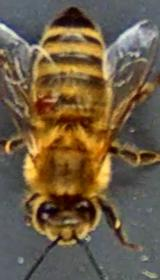varroa_mite: (32, 84, 66, 116)
